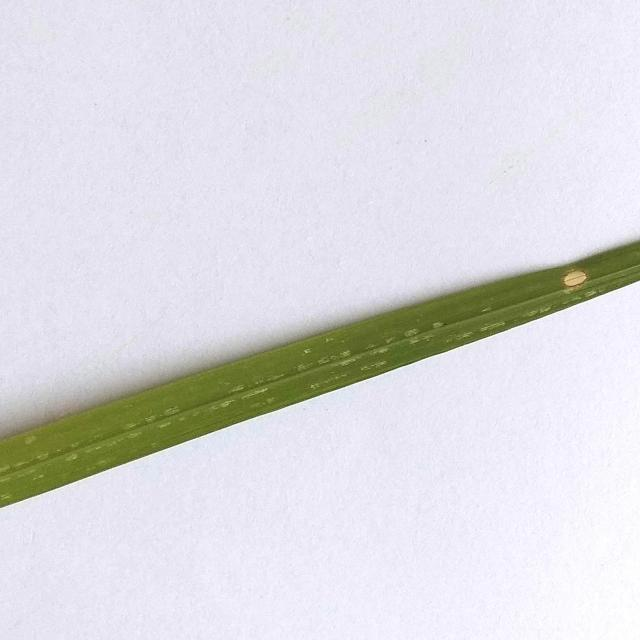Leaf_Blast: (556, 259, 600, 290)
